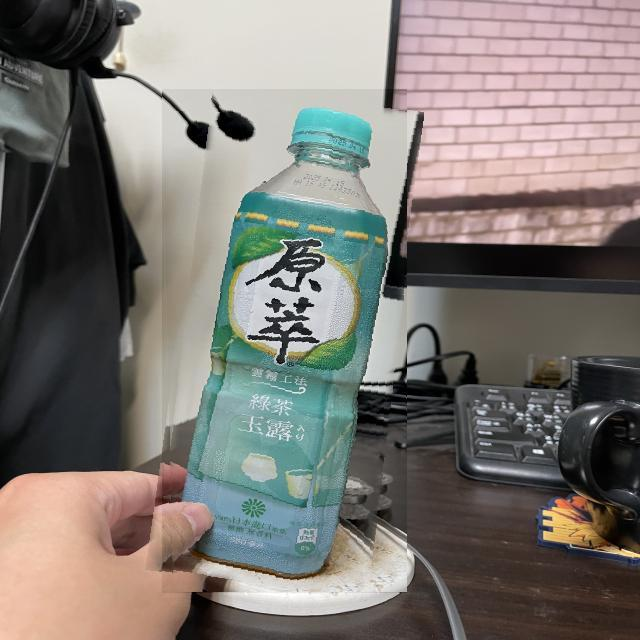YuanTsui_GreenTea: (162, 90, 407, 594)
